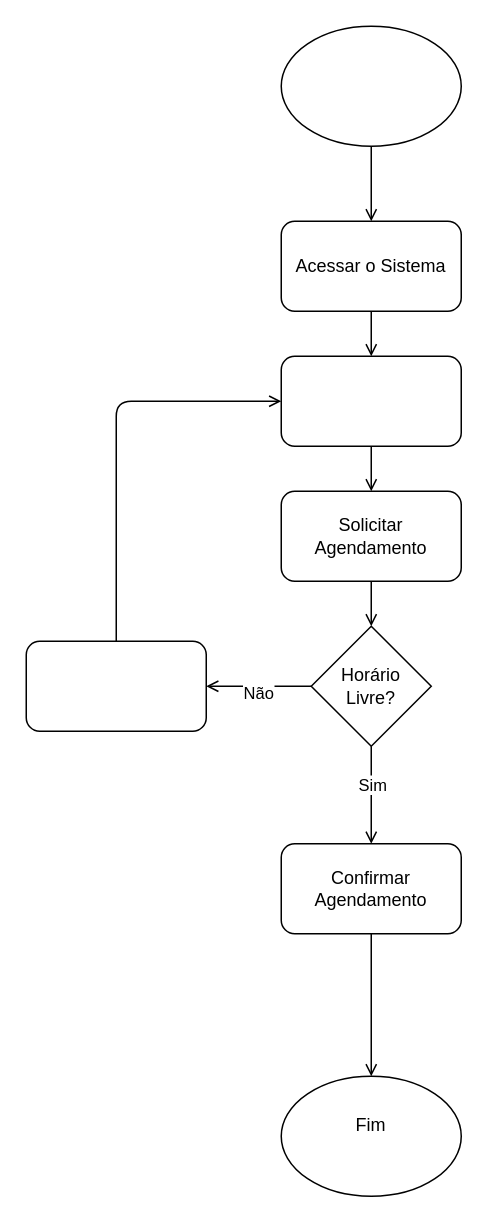
Image size: 488x1223. Some labels were removed from this diagram. The centre of each missing label's shape, as x and y in pixels:
"Avisar Indisponibilidade" belongs at point (115, 685).
"Início" belongs at point (370, 85).
"Selecionar Médico e Data" belongs at point (370, 400).
